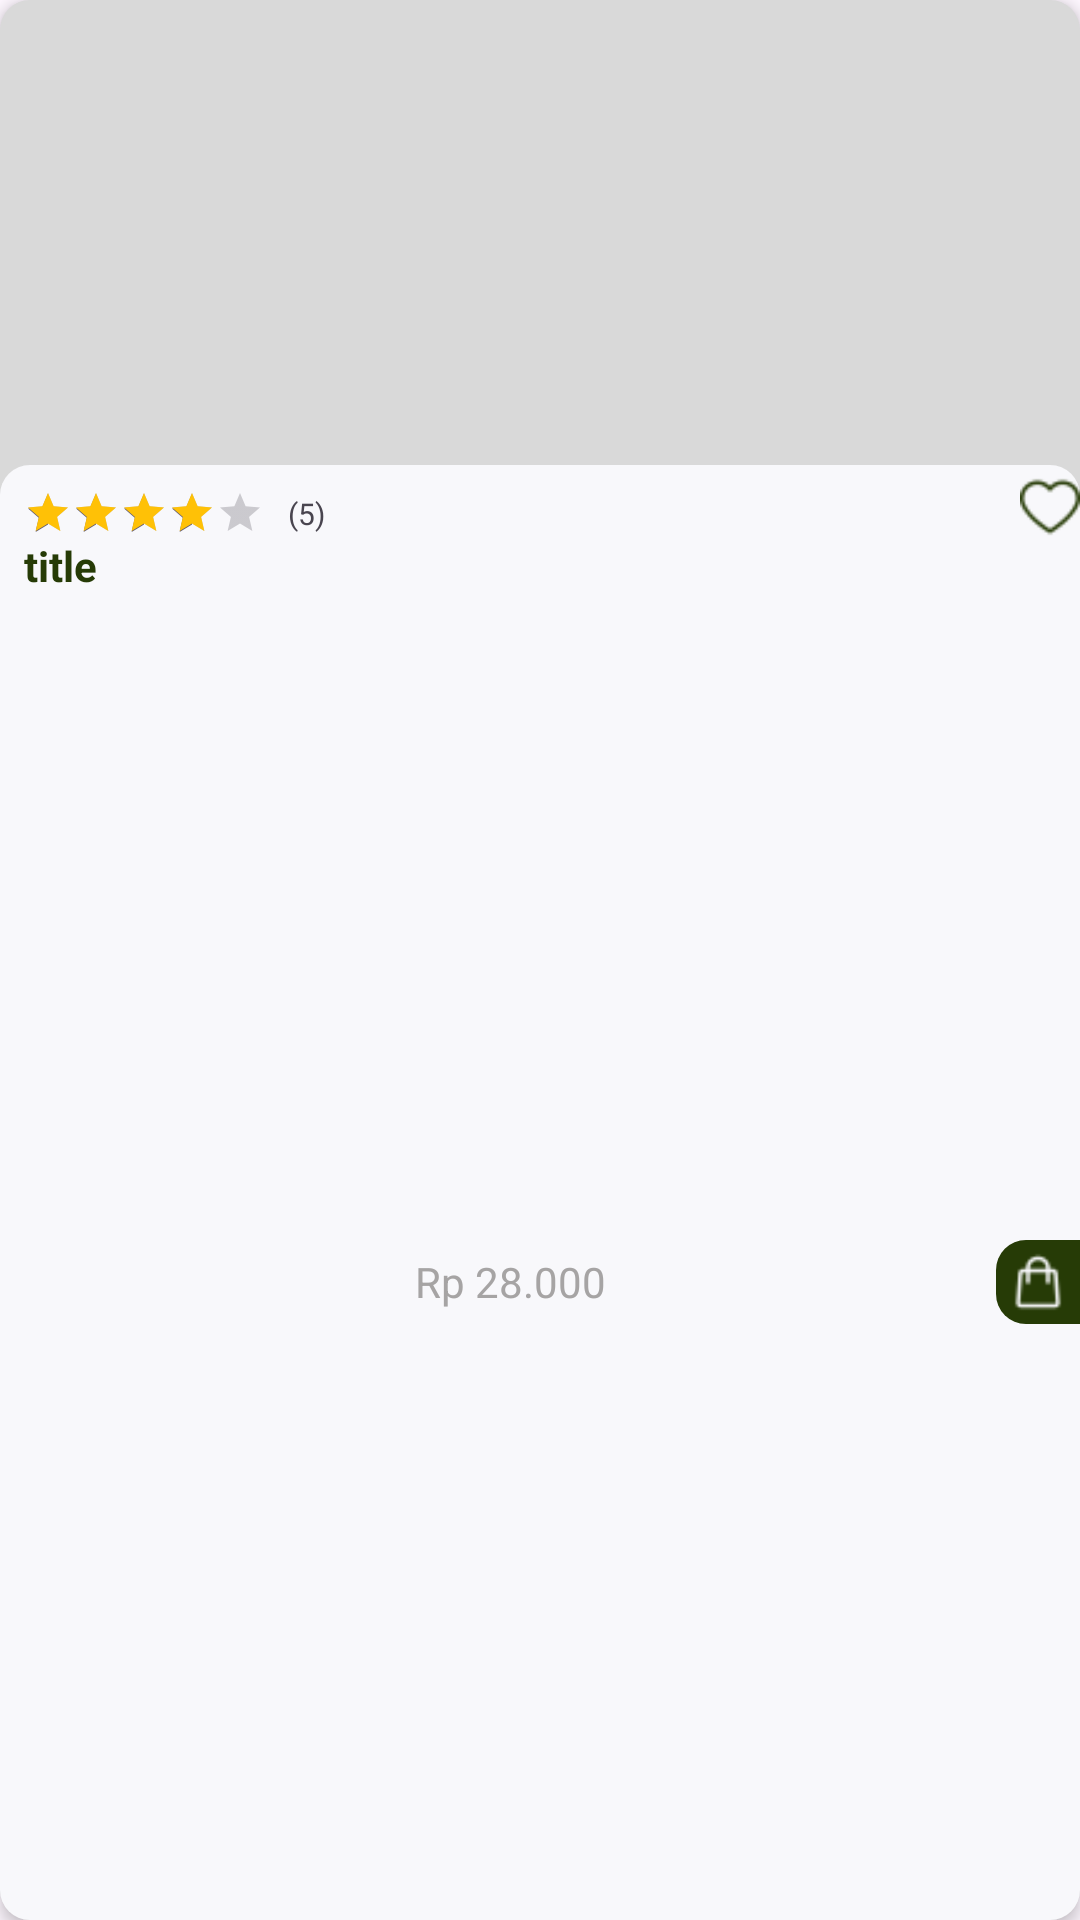

Icons on this 1080 × 1920 Android screen, each with the point to tap as point (x, y):
cart: point (1038, 1282)
favorite: point (1050, 506)
